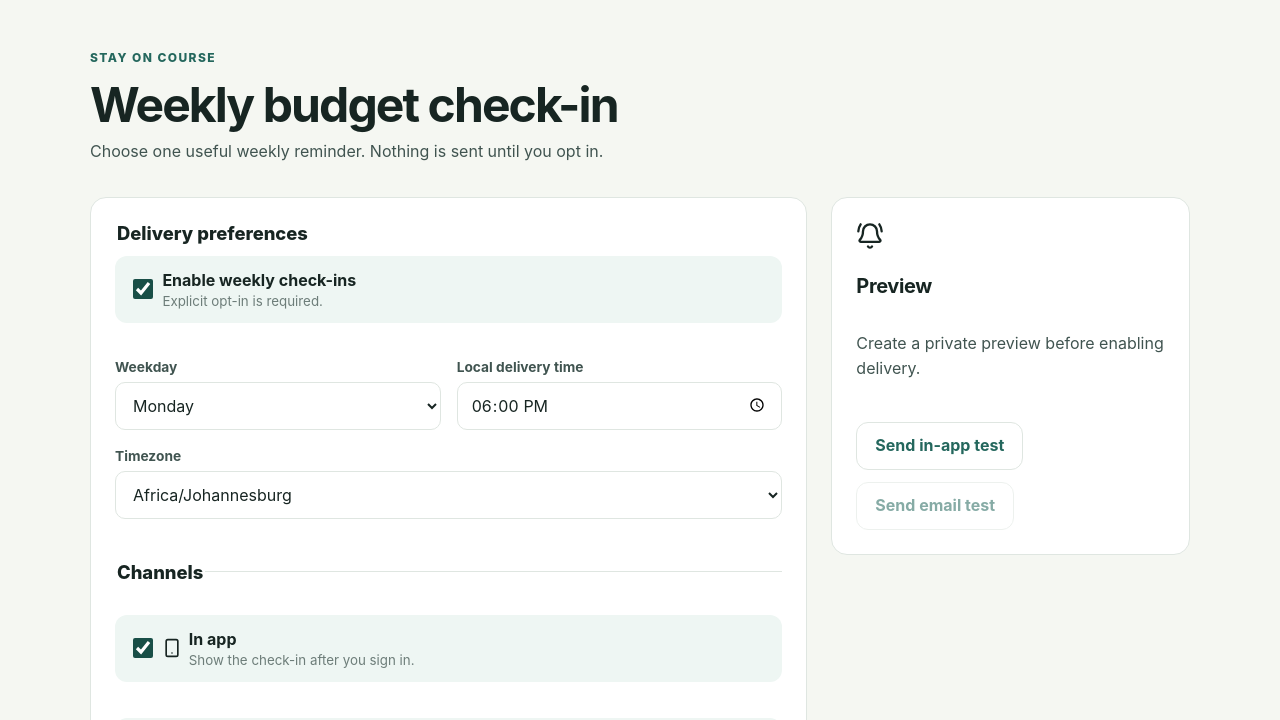
it: WeeklyCheckInPage › shows test-send failures without claiming success
Click the button "Send in-app test": (940, 446) [856,422,1023,470]
(page scrolled)
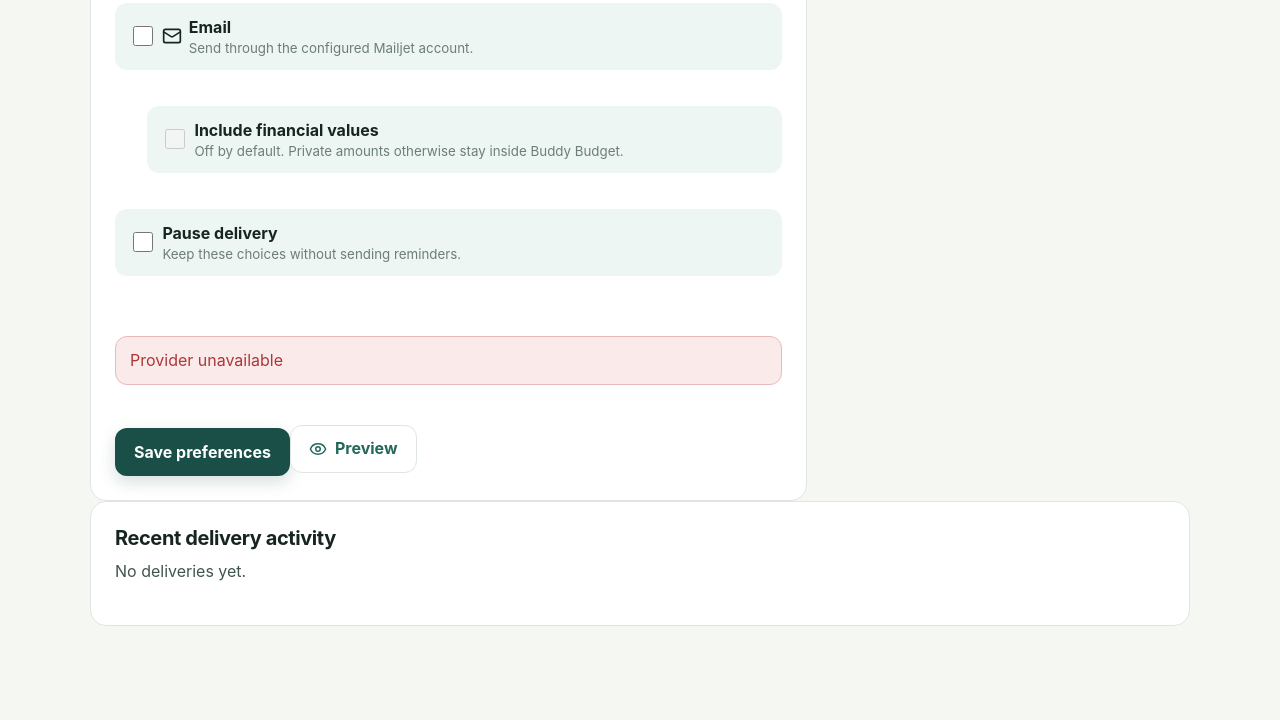
Expected: the message reads "Provider unavailable", [130,350,283,370]
